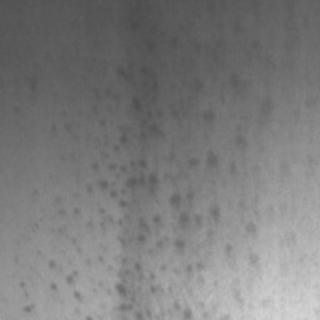pitted_surface: (21, 8, 267, 316)
